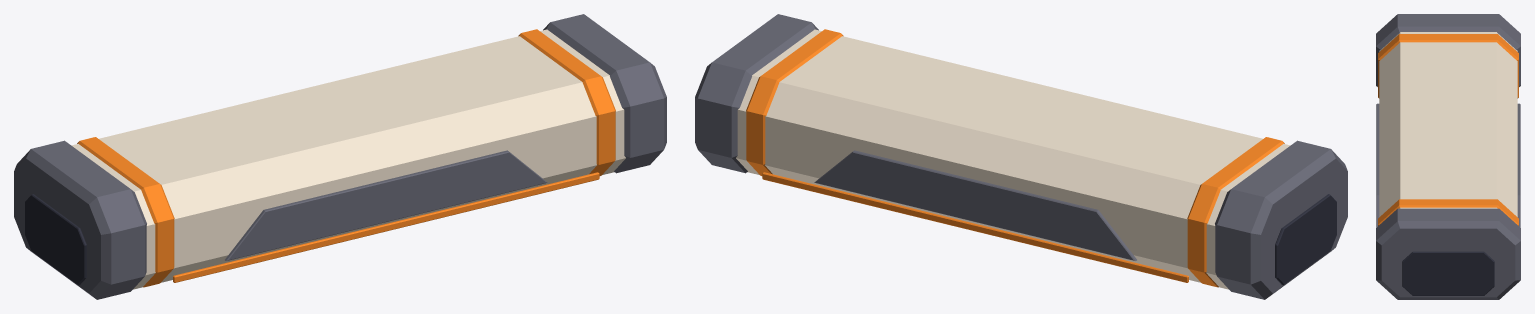
File: asset.glb
3 renders of one model, left to right at view 1: azimuth 30°, elevation 25°; view 2: azimuth 150°, elevation 25°; view 3: azimuth 270°, elevation 25°, orthographic. The views are drawn at different scales.
Visible parts, largest first — view 1: Ivory straight cover, Thick slate end collar (×2), cable-run-straight_smooth-structure_structure-gray, Orange fastening band (×2), cable-run-straight_accent-paint, Terminal inset; view 2: Ivory straight cover, Thick slate end collar (×2), cable-run-straight_smooth-structure_structure-gray, Orange fastening band (×2), cable-run-straight_accent-paint, Terminal inset; view 3: Ivory straight cover, Thick slate end collar (×2), Terminal inset, Orange fastening band (×2), cable-run-straight_smooth-structure_structure-gray.
Part boxes in pixels (x1,y1,x2,y2): Ivory straight cover: (71, 29, 625, 289); Thick slate end collar (×2): (14, 14, 666, 299); cable-run-straight_smooth-structure_structure-gray: (225, 150, 547, 260); Orange fastening band (×2): (77, 29, 615, 287); cable-run-straight_accent-paint: (173, 172, 599, 282); Terminal inset: (25, 194, 86, 285); Ivory straight cover: (736, 29, 1290, 289); Thick slate end collar (×2): (695, 14, 1347, 299); cable-run-straight_smooth-structure_structure-gray: (814, 150, 1136, 260); Orange fastening band (×2): (746, 29, 1284, 287); cable-run-straight_accent-paint: (762, 172, 1188, 282); Terminal inset: (1275, 194, 1336, 285); Ivory straight cover: (1379, 32, 1517, 216); Thick slate end collar (×2): (1376, 14, 1520, 299); Terminal inset: (1402, 251, 1494, 295); Orange fastening band (×2): (1378, 34, 1518, 225); cable-run-straight_smooth-structure_structure-gray: (1376, 103, 1520, 227).
Bounding box in the file's own units: 2.2 × 0.378 × 0.63.
